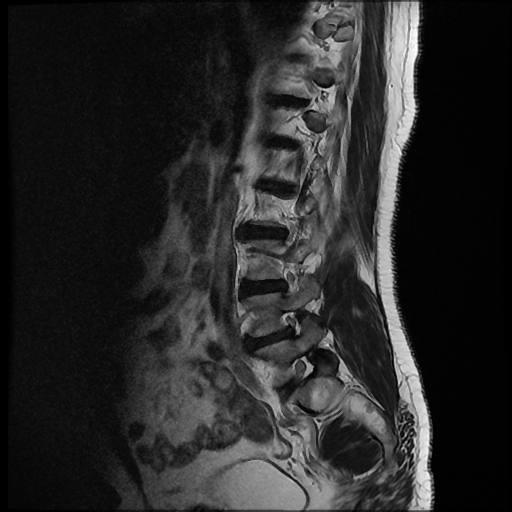RFS0: (281, 349, 324, 391), (271, 303, 308, 342)
